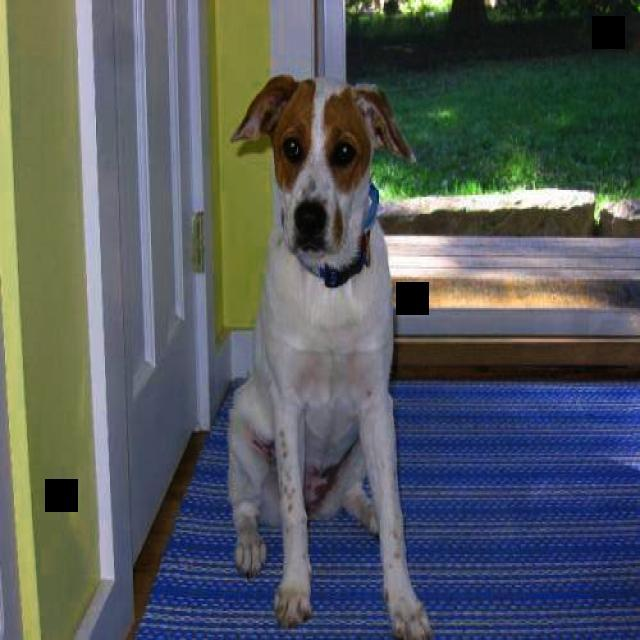adult_dog: (224, 69, 433, 640)
